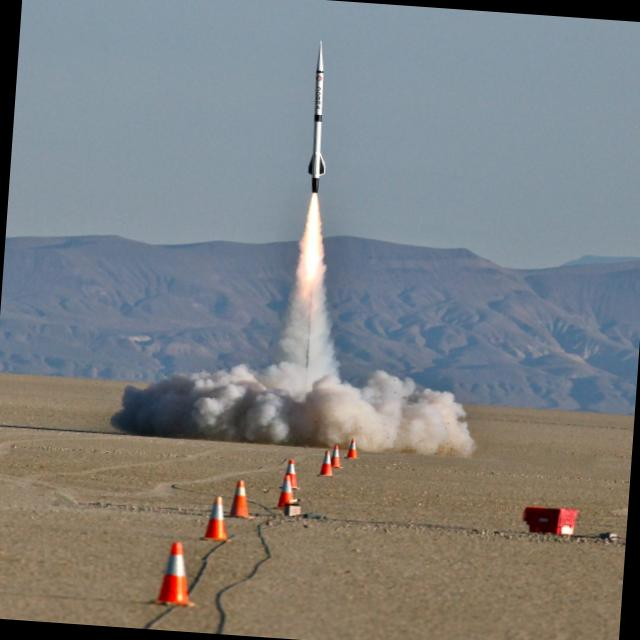rocket: (291, 36, 343, 295)
